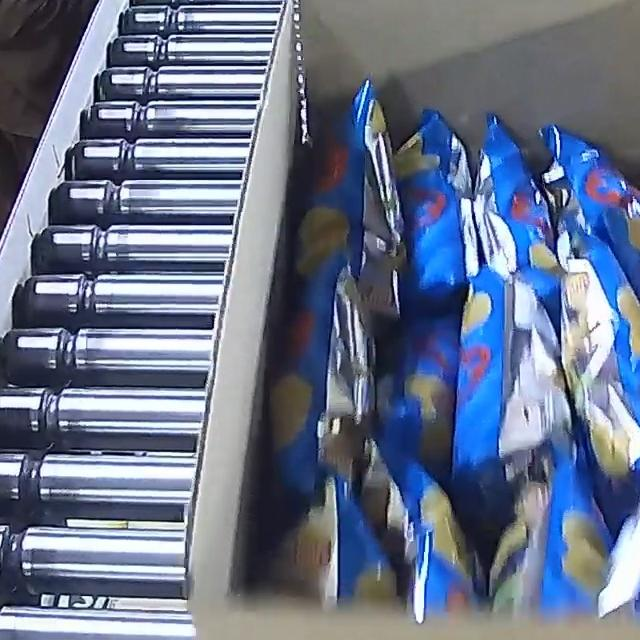paprika: (253, 70, 640, 624)
